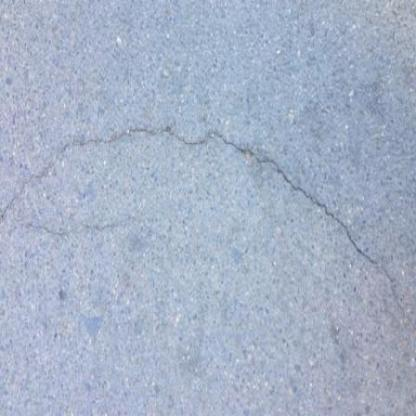Cracks: (0, 113, 410, 322)
